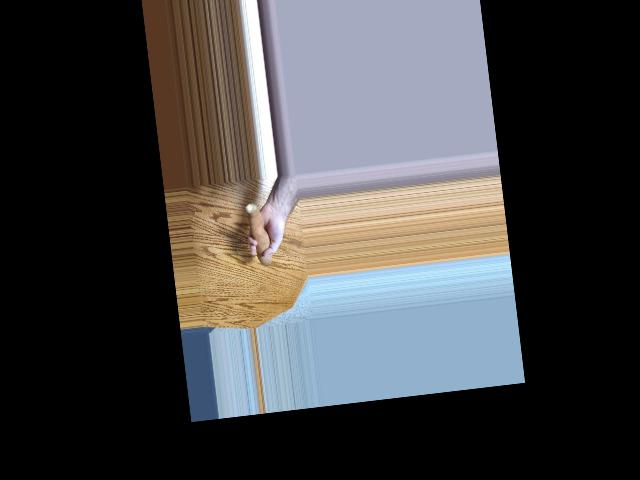sweet_potato: (246, 199, 276, 272)
